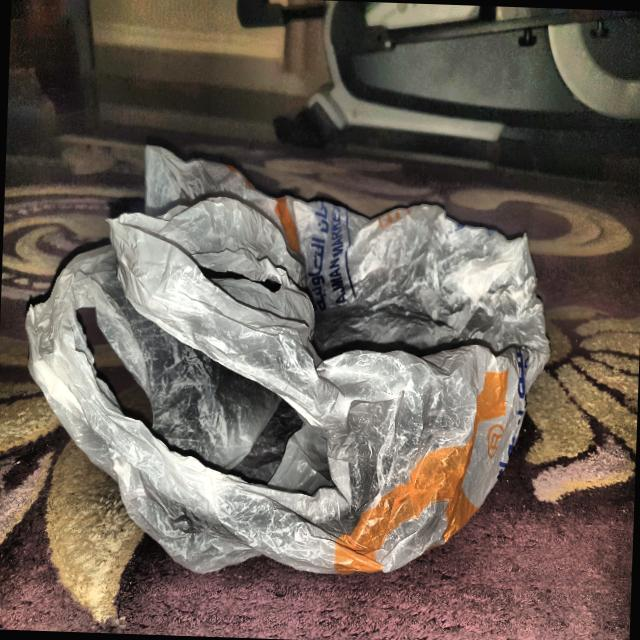plastic bag: (2, 118, 571, 600)
